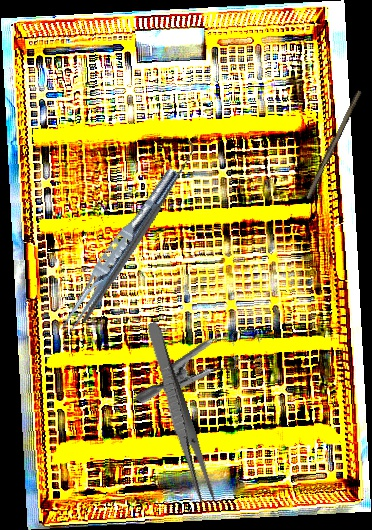Dressing Forceps: (140, 320, 218, 506)
Hook Surgical: (30, 139, 243, 324)
Scalpel Handle: (303, 88, 363, 201)
Speculum: (133, 294, 280, 449)
Tissue Forceps: (54, 161, 184, 342)
